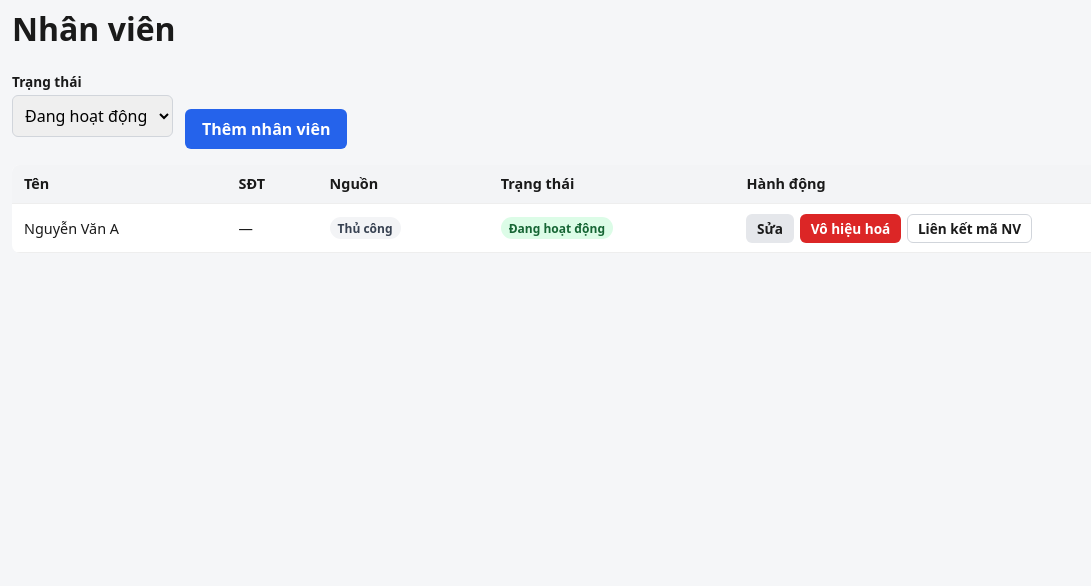
Scenario: EmployeesPage › sửa tên nhân viên → cập nhật hiển thị ngay không cần reload thủ công
Expected: the text "Nguyễn Văn A" is shown, [12,204,227,253]
Click the button "Sửa" at [770, 228], box [746,214,794,243]
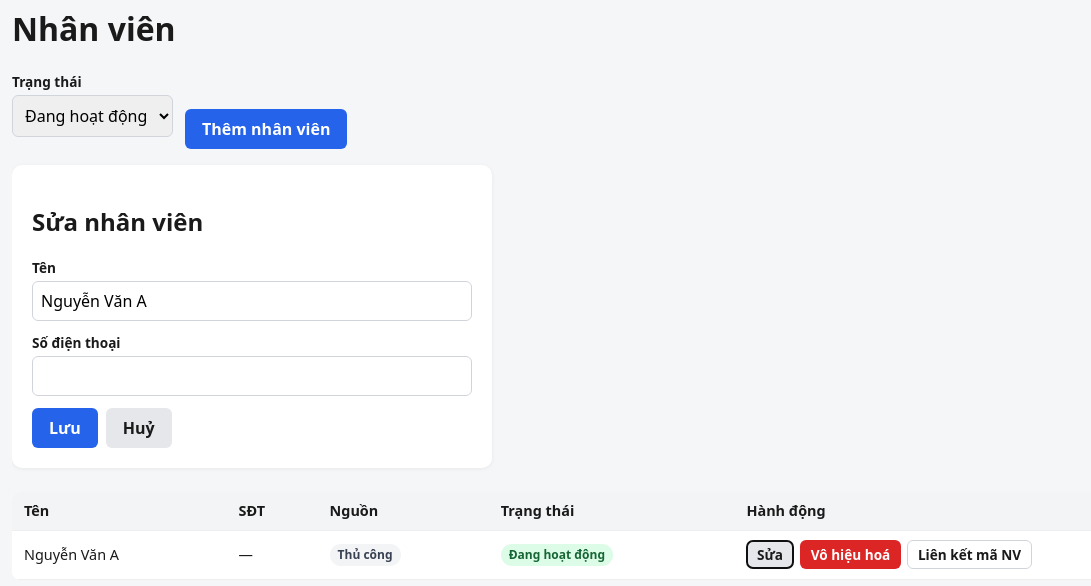
Replace the text in the field labelled "Tên" with "Nguyễn Văn A (đã sửa)" at [252, 301], box [32,281,472,321]
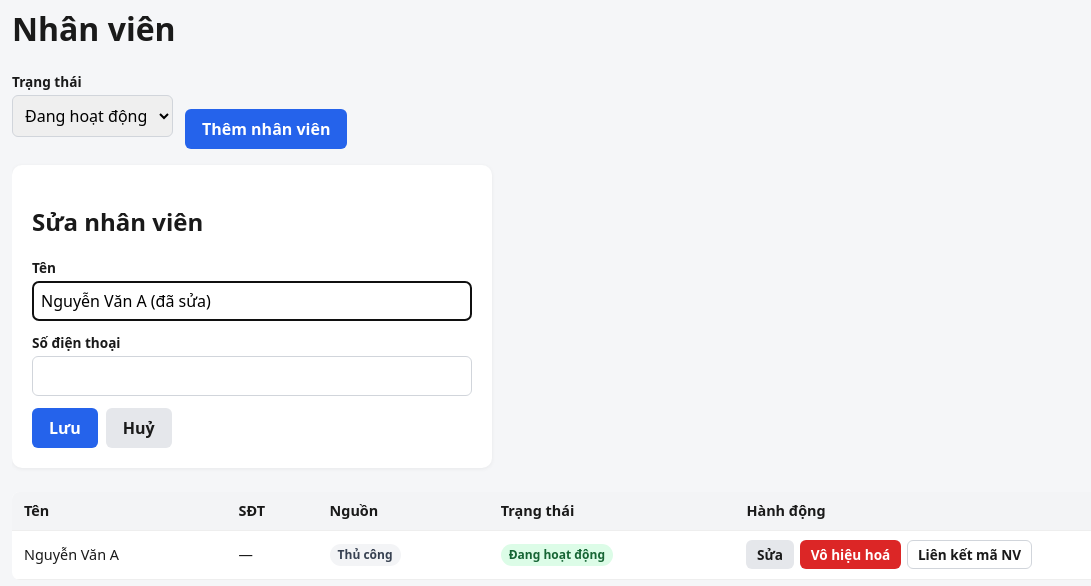
Click the button "Lưu" at [65, 428], box [32,408,98,448]
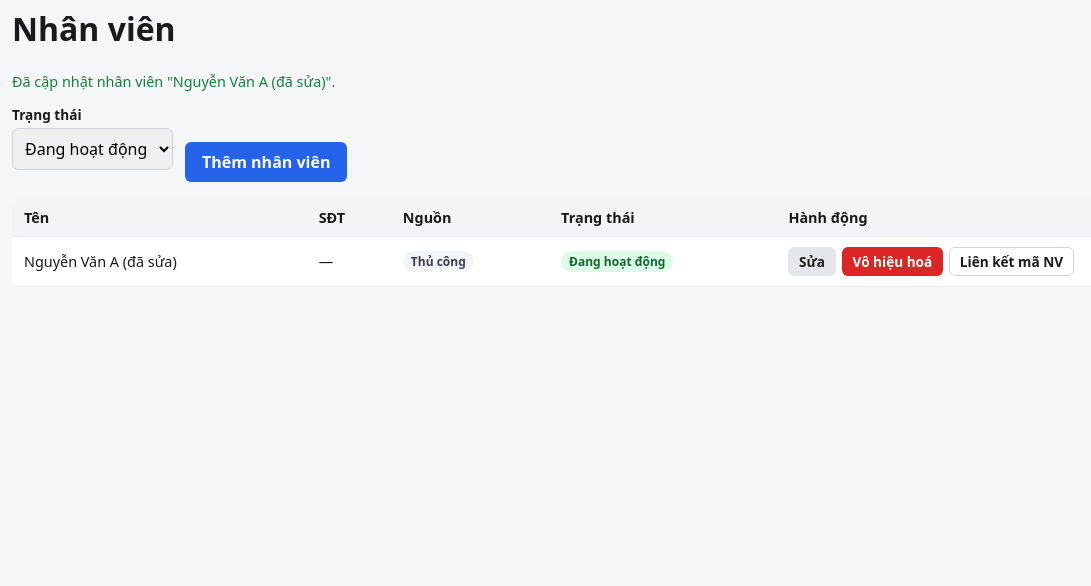
Expected: the text "Nguyễn Văn A (đã sửa)" is shown, [12,237,307,286]
